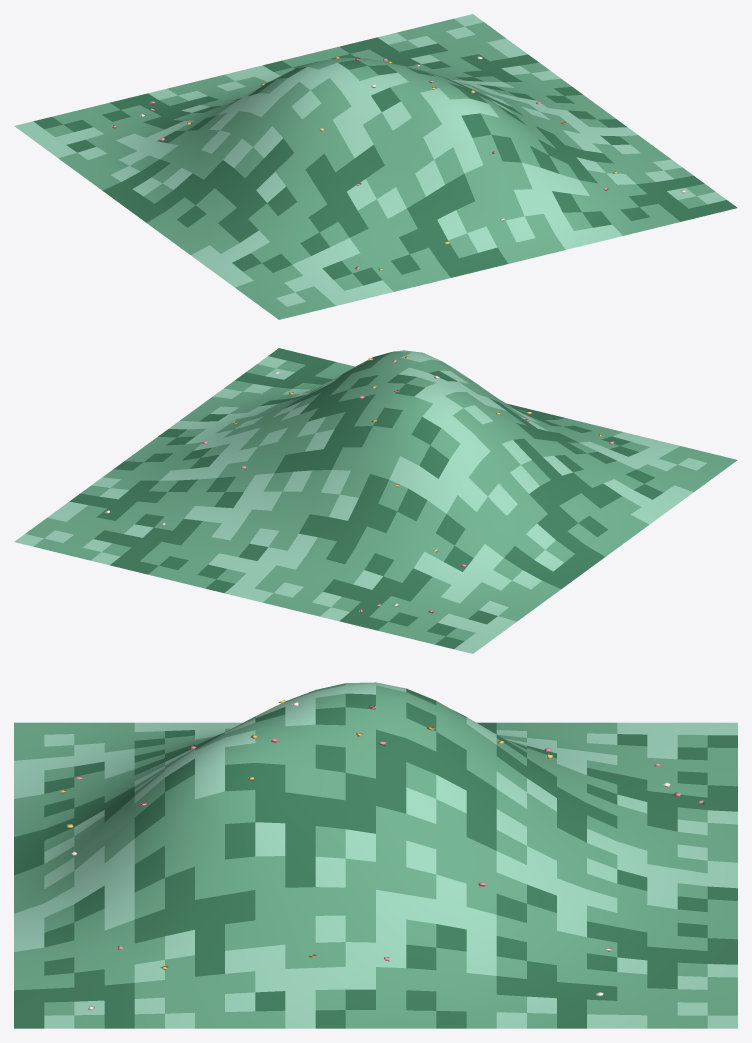
File: land_meadow.glb
The picture shows the model from 3 angles, top to bottom: view 1: azimuth 30°, elevation 25°; view 2: azimuth 150°, elevation 25°; view 3: azimuth 270°, elevation 25°; orthographic projection. The views are drawn at different scales.
Parts seen in each view (by area): view 1: land_meadow; view 2: land_meadow; view 3: land_meadow.
Part boxes in pixels (box(x1,y1,x2,y2)): land_meadow: box(14, 14, 737, 319); land_meadow: box(14, 348, 737, 653); land_meadow: box(14, 682, 737, 1028).
Size of the model in its own units: 40 by 9.54 by 40.
Materials: 1 (1 with a texture image).
